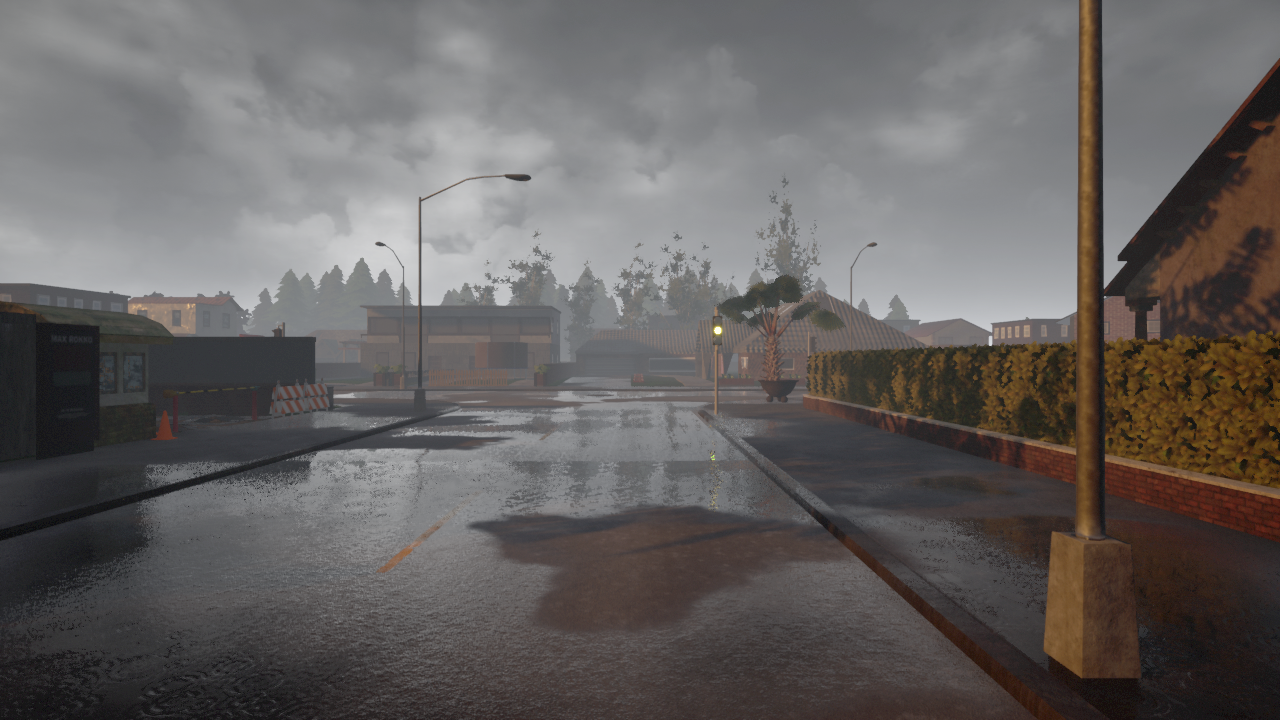yellow: (712, 314, 723, 344)
